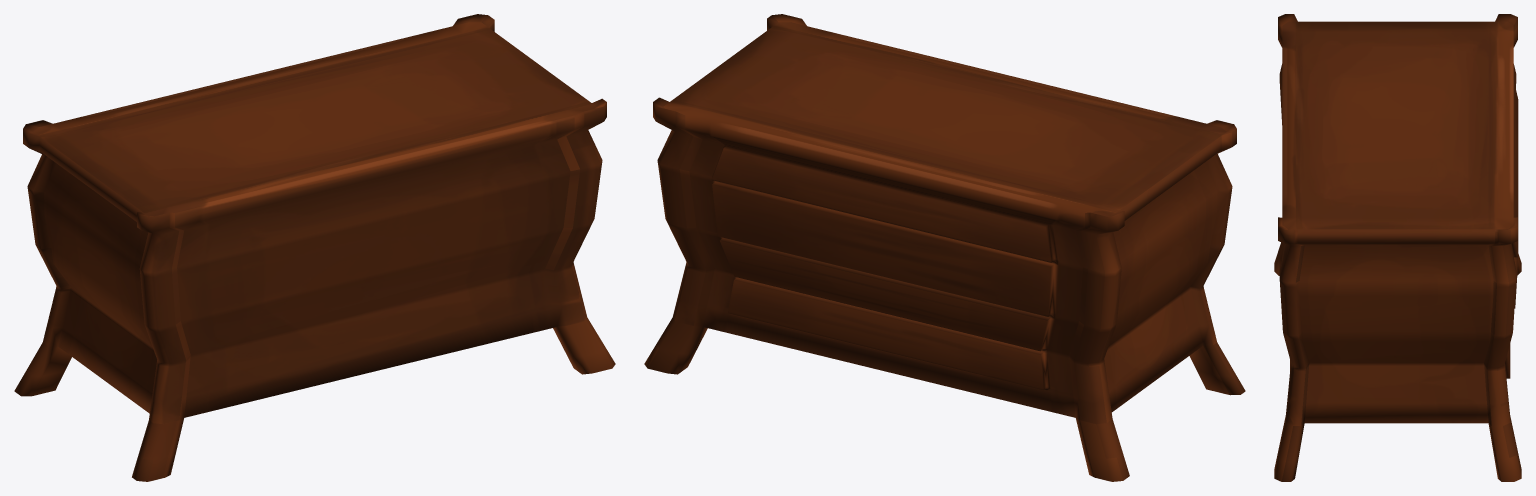
File: VictorianCloset.fbx
3 views of the same model, side by side, from view 1: azimuth 30°, elevation 25°; view 2: azimuth 150°, elevation 25°; view 3: azimuth 270°, elevation 25° (orthographic). The views are drawn at different scales.
Visible parts, largest first — view 1: pCube3; view 2: pCube3; view 3: pCube3.
Boxes of the visible parts, bbox=[...] form: pCube3: bbox=[14, 14, 615, 481]; pCube3: bbox=[644, 14, 1245, 481]; pCube3: bbox=[1274, 14, 1521, 481].
Size of the model in its own units: 243 by 128 by 115.
